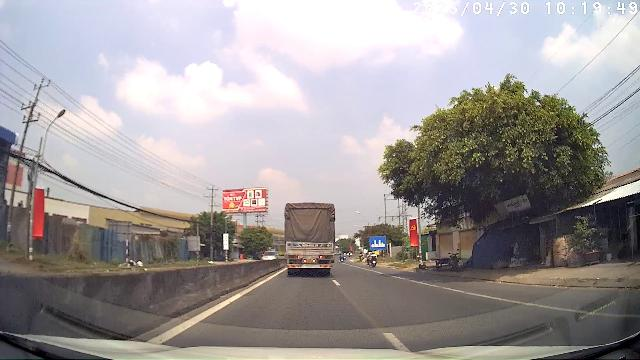420-bat-dau-khu-dong-dan-cu: (369, 237, 386, 249)
